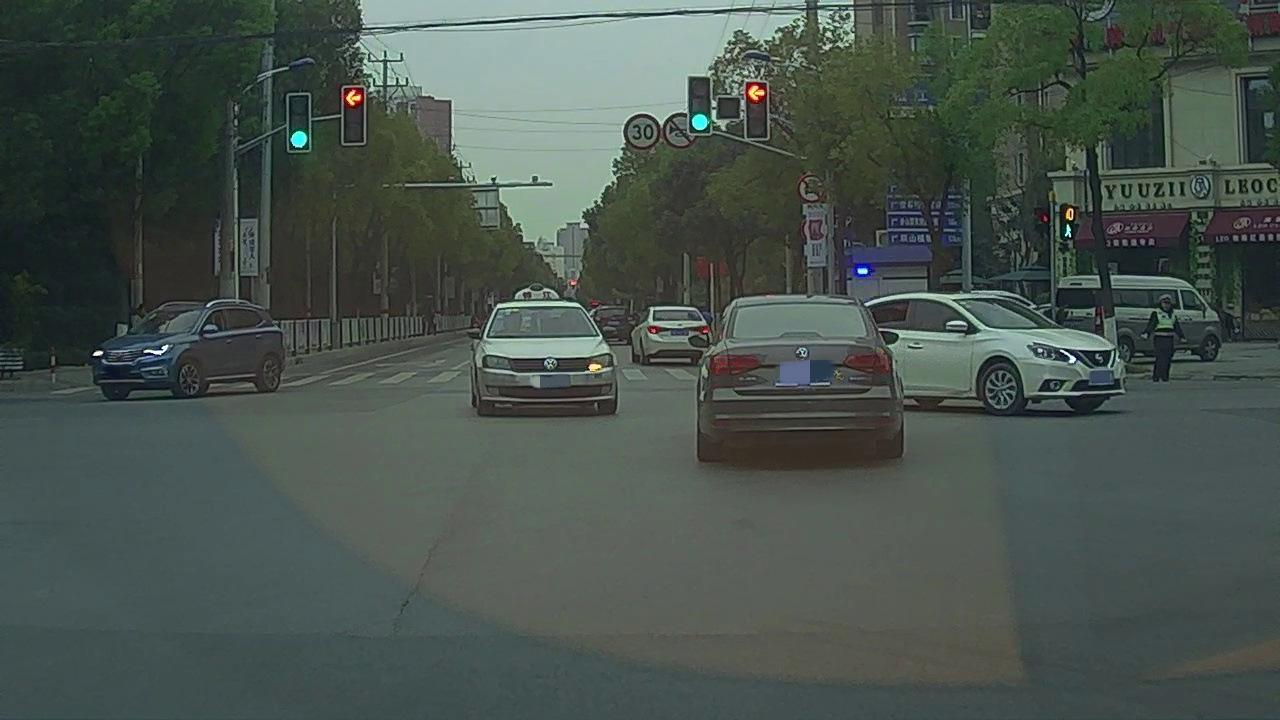traffic_light: (688, 78, 711, 134), (288, 95, 309, 152), (344, 86, 364, 144), (748, 81, 766, 139)
